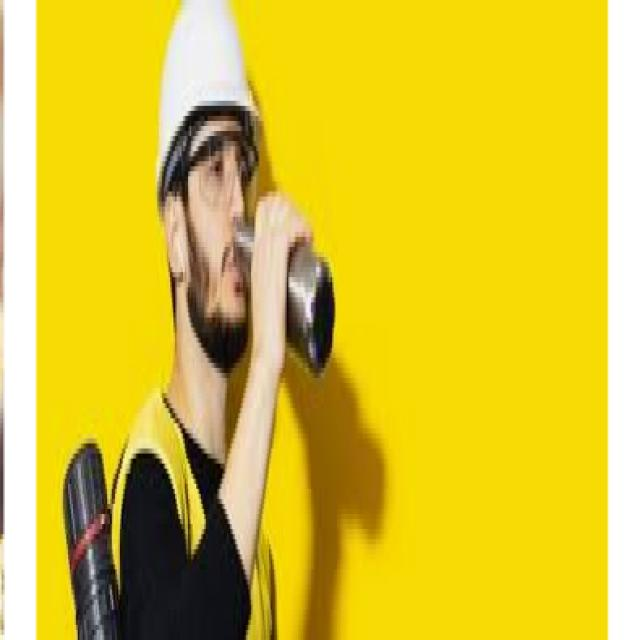glasses: (170, 137, 268, 209)
